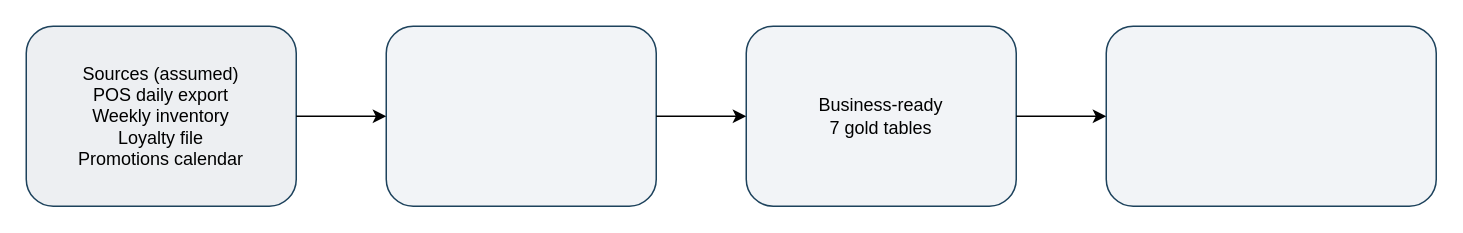
Some shapes in this 1463 by 233 pixel diagram are drawn without their labels. The shapes that lost their labels are listed below. From the top down, each one's centre as x and y in pixels, then its label:
At pixel 520 115: "Land & clean Bronze -> Silver quarantine, dedupe".
At pixel 1270 115: "What you use AI/BI dashboard (5 pages) Genie space, Streamlit app".
